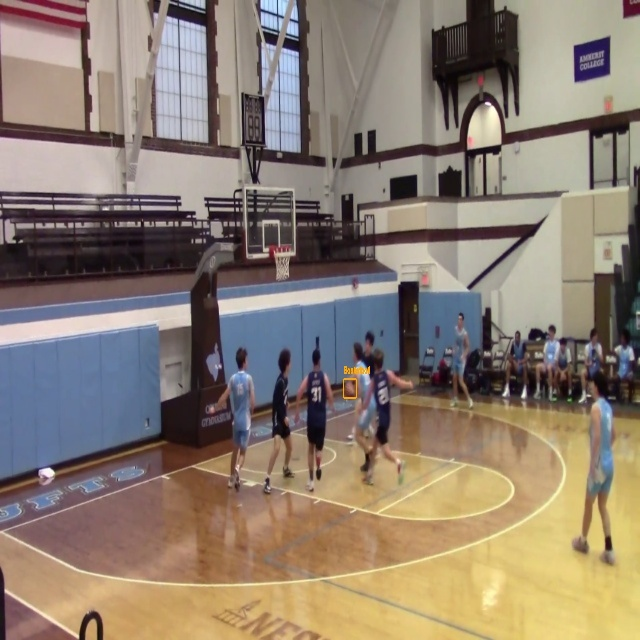Basketball: (344, 379, 356, 398)
